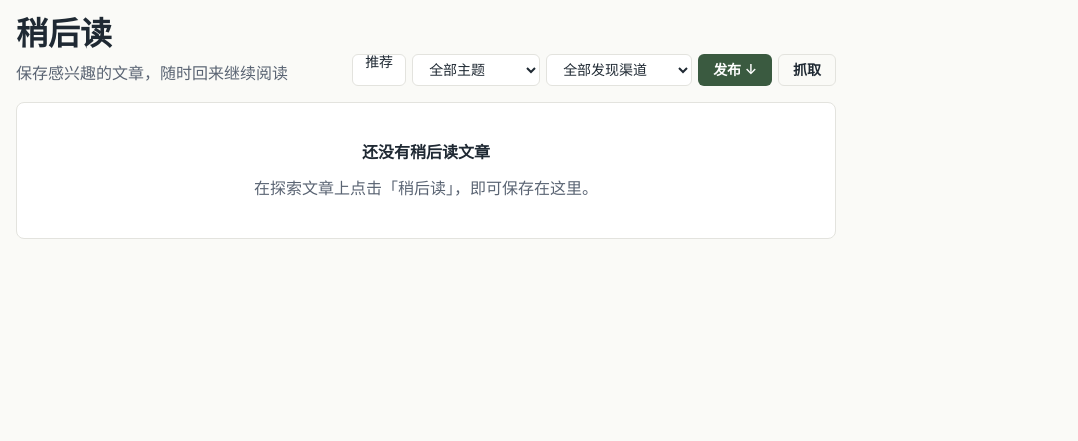
Test: ExplorePage › opens the later view and gives its own empty state
This screenshot has width=1078, height=441.
expect the text "还没有稍后读文章" is shown: met, box [362,139,490,165]
expect the button "清除来源和主题屏蔽" is not shown: met
Click the link "推荐".
click(379, 70)  # box [352,54,406,86]
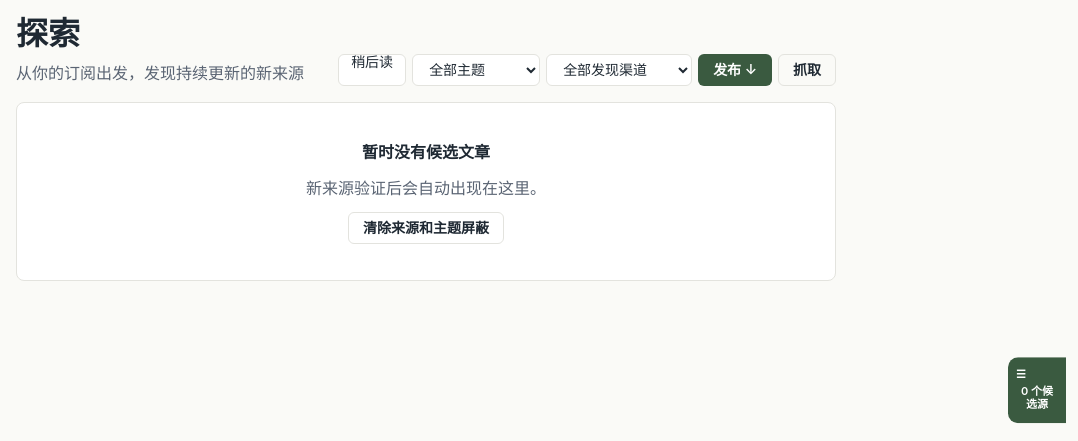
expect the text "暂时没有候选文章" is shown: met, box [362,139,490,165]
